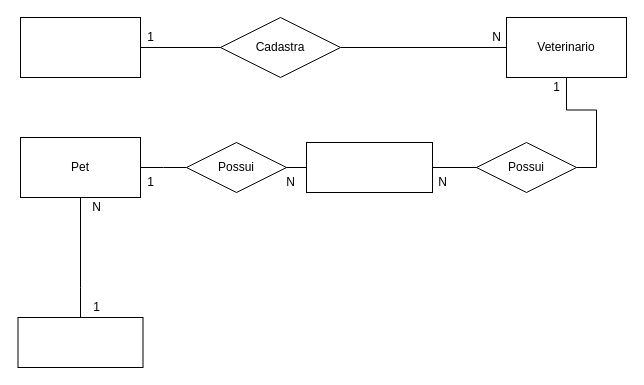
Some shapes in this 644 by 385 pixel diagram are drawn without their labels. The centre of each missing label's shape, as x and y in pixels:
Clinica: (80,47)
Consulta: (369,167)
Dono: (80,342)
